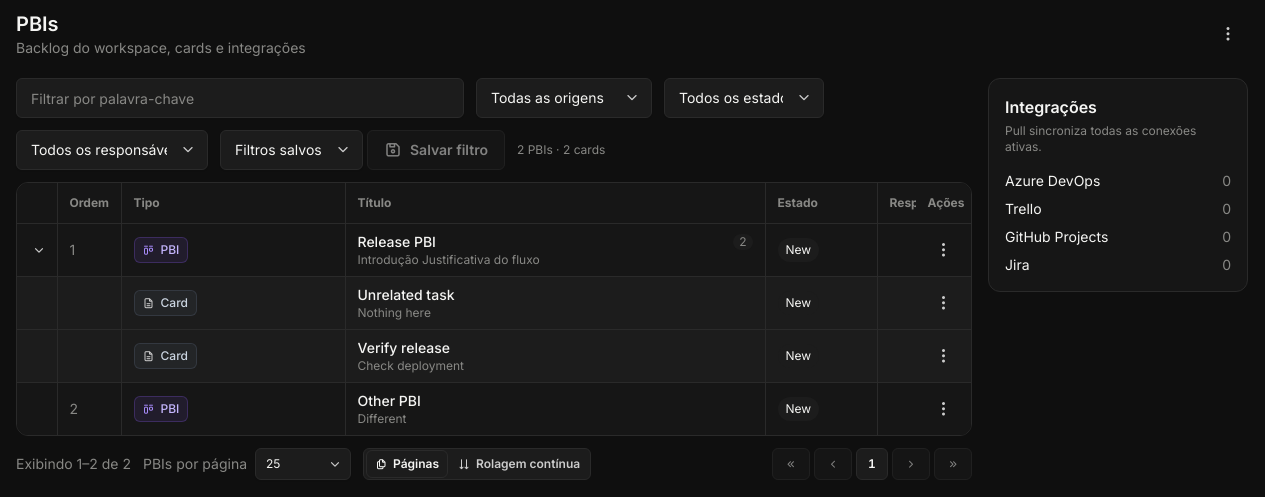
Test: PbiView › shows every child of a matching item and searches accent-insensitively in HTML descriptions
Expected: the text "Other PBI" is shown, [358,391,421,411]
Type "introducao justifica" into the field named "Filtrar PBIs".
click(240, 98); type("introducao justifica")  # box [16,78,464,118]
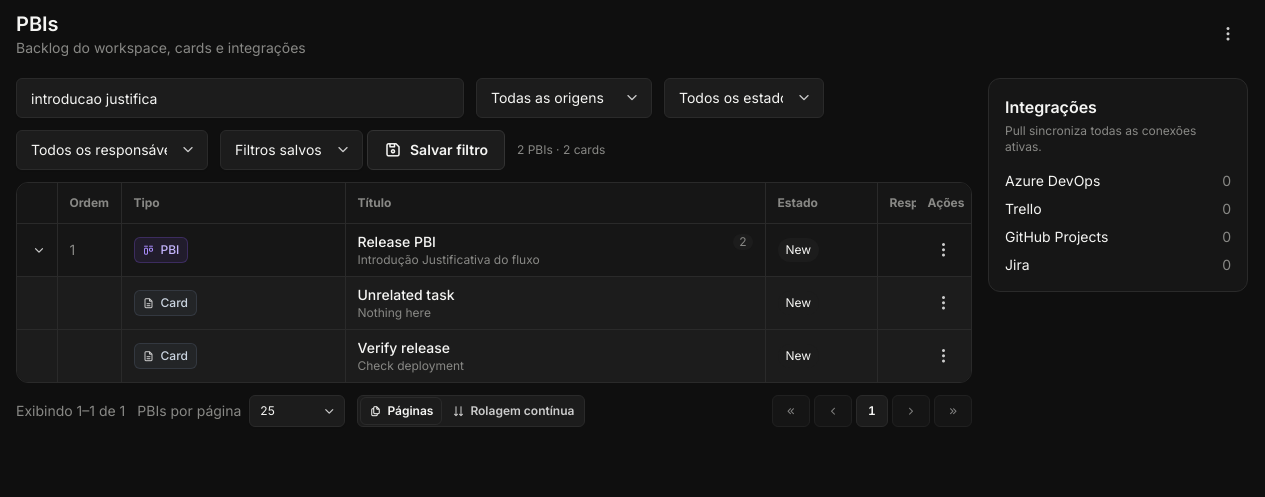
Expected: the text "Release PBI" is shown, [358,232,436,252]
Now the button "Other PBI" is gone
Replace the text in the field named "Filtrar PBIs" with "unrelated" at (240, 98), box [16,78,464,118]
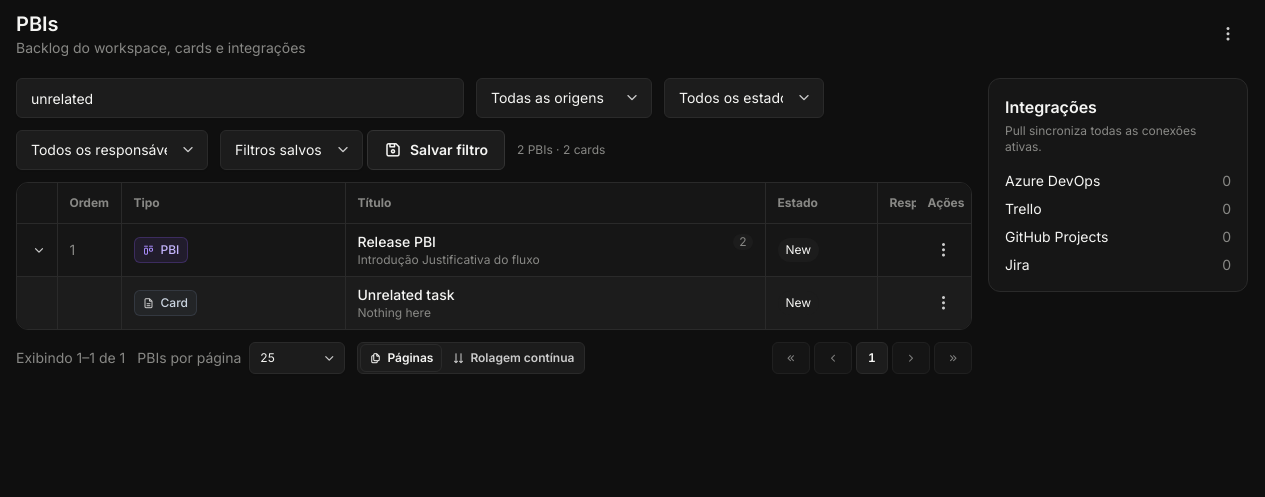
Expected: the text "Release PBI" is shown, [358,232,436,252]
Now the button "Verify release" is gone
